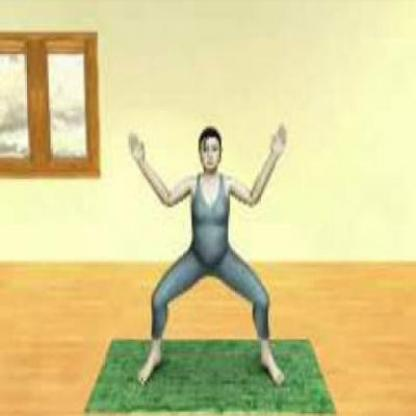godness: (121, 115, 296, 392)
